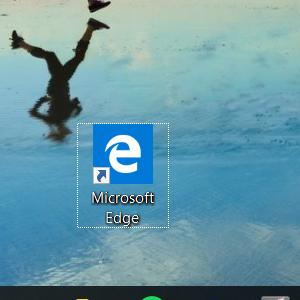edge: (93, 124, 153, 184)
